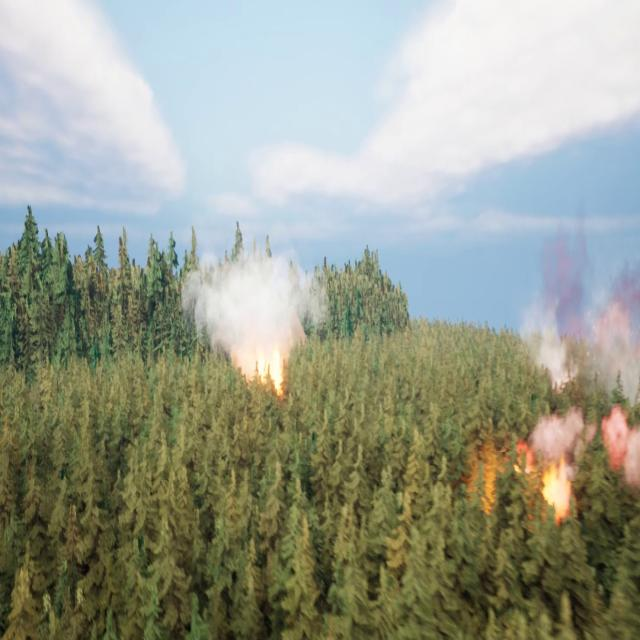fire: (503, 442, 572, 512), (245, 351, 293, 397)
smoke: (530, 205, 640, 498), (178, 246, 326, 400)
